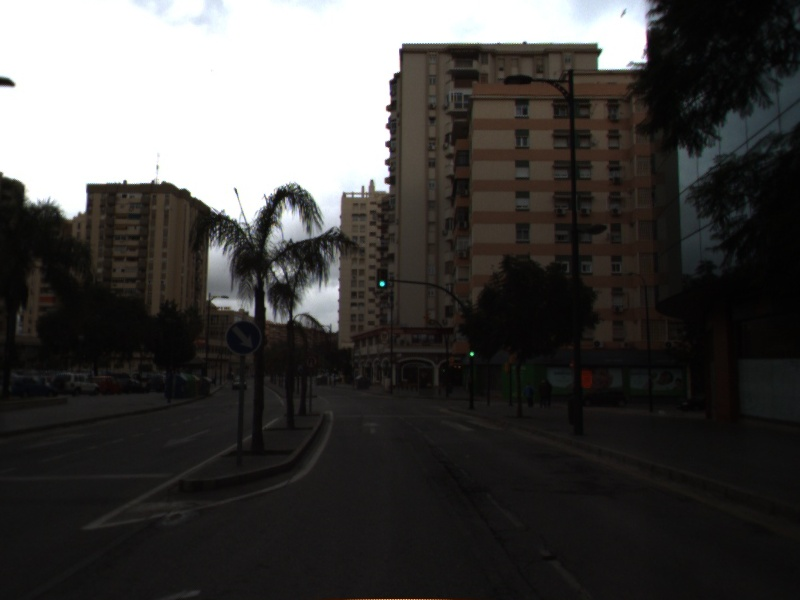STRAIGHT: (360, 419, 384, 437)
